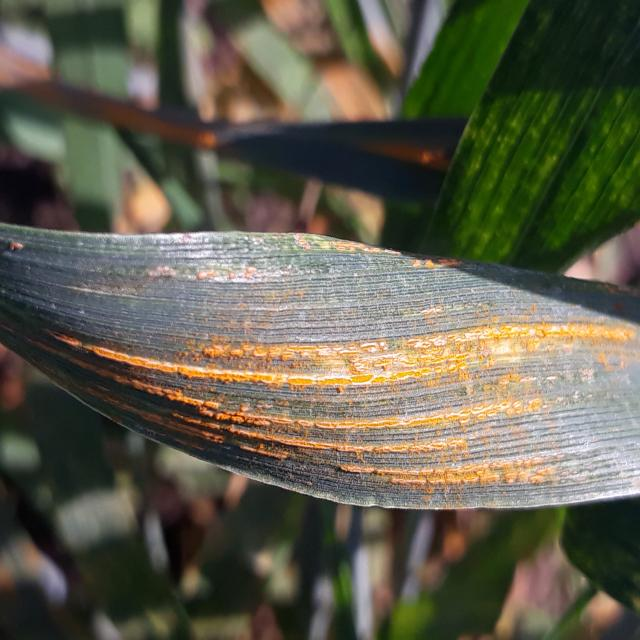yellow_rust: (0, 200, 640, 502), (12, 62, 456, 188)
